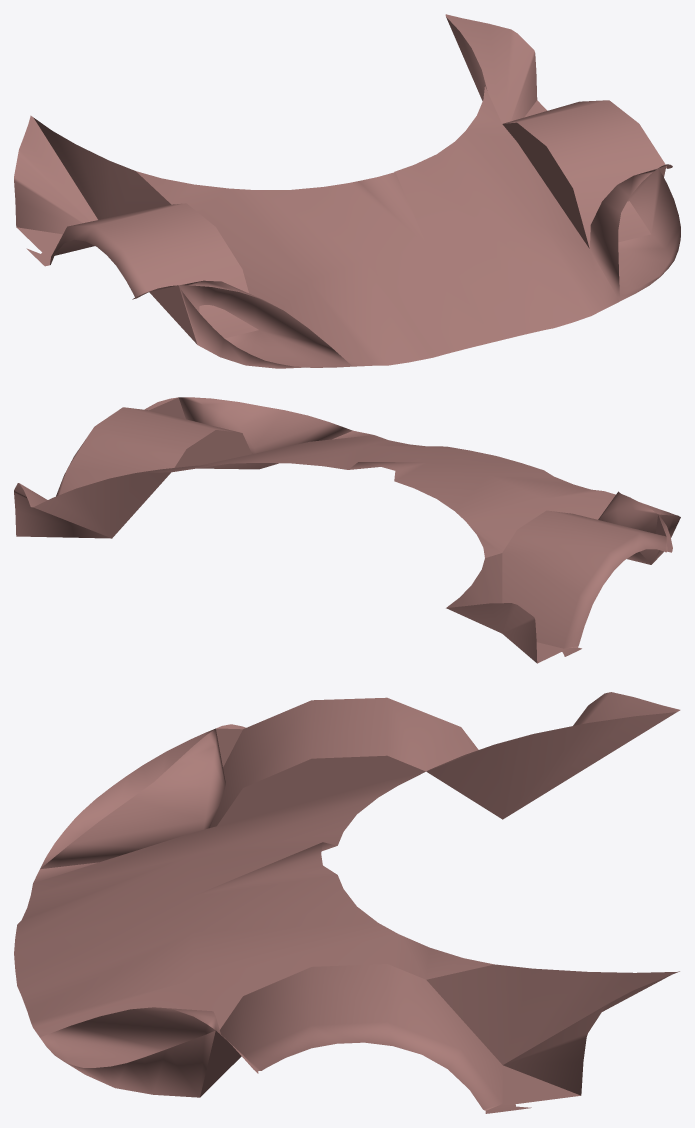
File: Agera_Hood_Trim.fbx
3 renders of one model, top to bottom at view 1: azimuth 30°, elevation 25°; view 2: azimuth 150°, elevation 25°; view 3: azimuth 270°, elevation 25°, orthographic. The views are drawn at different scales.
Visible parts, largest first — view 1: Agera_Hood_Trim; view 2: Agera_Hood_Trim; view 3: Agera_Hood_Trim.
Part boxes in pixels (bbox=[...]): Agera_Hood_Trim: bbox=[14, 14, 680, 368]; Agera_Hood_Trim: bbox=[14, 397, 680, 663]; Agera_Hood_Trim: bbox=[14, 692, 680, 1113].
Size of the model in its own units: 194 by 31.65 by 161.
